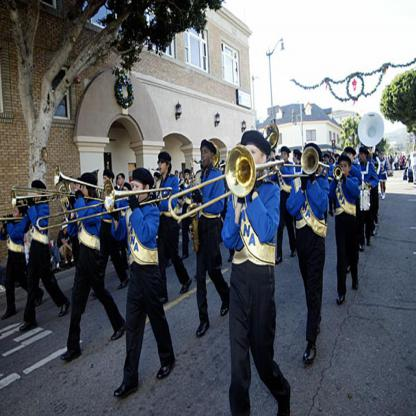face: (243, 146, 263, 178), (132, 180, 143, 202), (201, 149, 212, 168), (340, 162, 349, 176), (159, 161, 167, 176), (32, 189, 40, 203), (13, 208, 20, 222), (81, 184, 88, 198), (347, 153, 355, 164), (104, 176, 111, 187), (293, 154, 299, 165), (282, 152, 288, 163), (274, 162, 280, 173), (360, 153, 367, 162), (123, 187, 128, 198), (119, 177, 124, 186), (71, 181, 76, 190), (185, 174, 190, 182), (155, 176, 158, 187), (325, 156, 329, 163), (271, 152, 275, 159), (77, 182, 81, 189), (66, 226, 69, 233), (382, 154, 385, 159), (176, 173, 179, 178), (331, 159, 333, 165), (181, 174, 183, 180), (377, 151, 379, 156), (404, 158, 405, 161)
